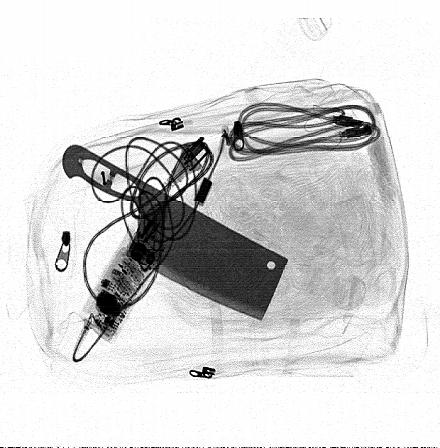Knife: (61, 144, 289, 322)
